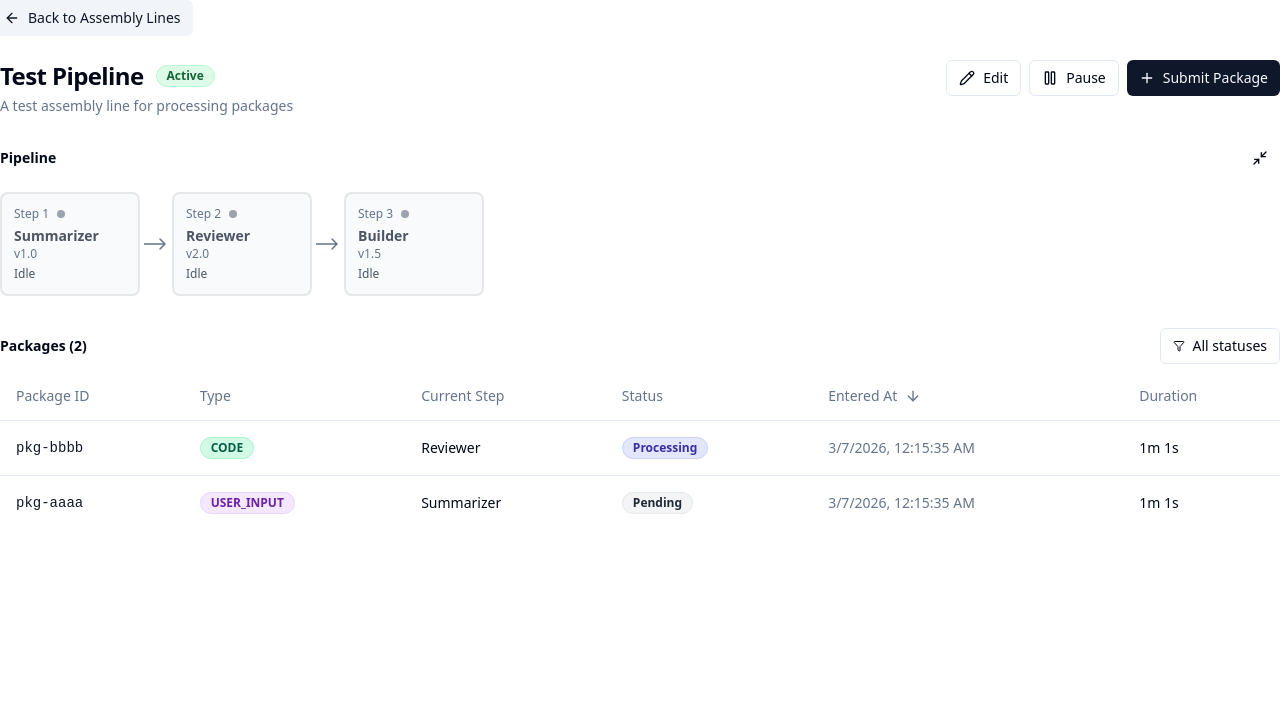
it: AssemblyLineDetailPage › Action buttons › opens submit dialog on Submit Package click
Click the button "Submit Package". click: (1203, 78)
box: [1127,60,1279,96]
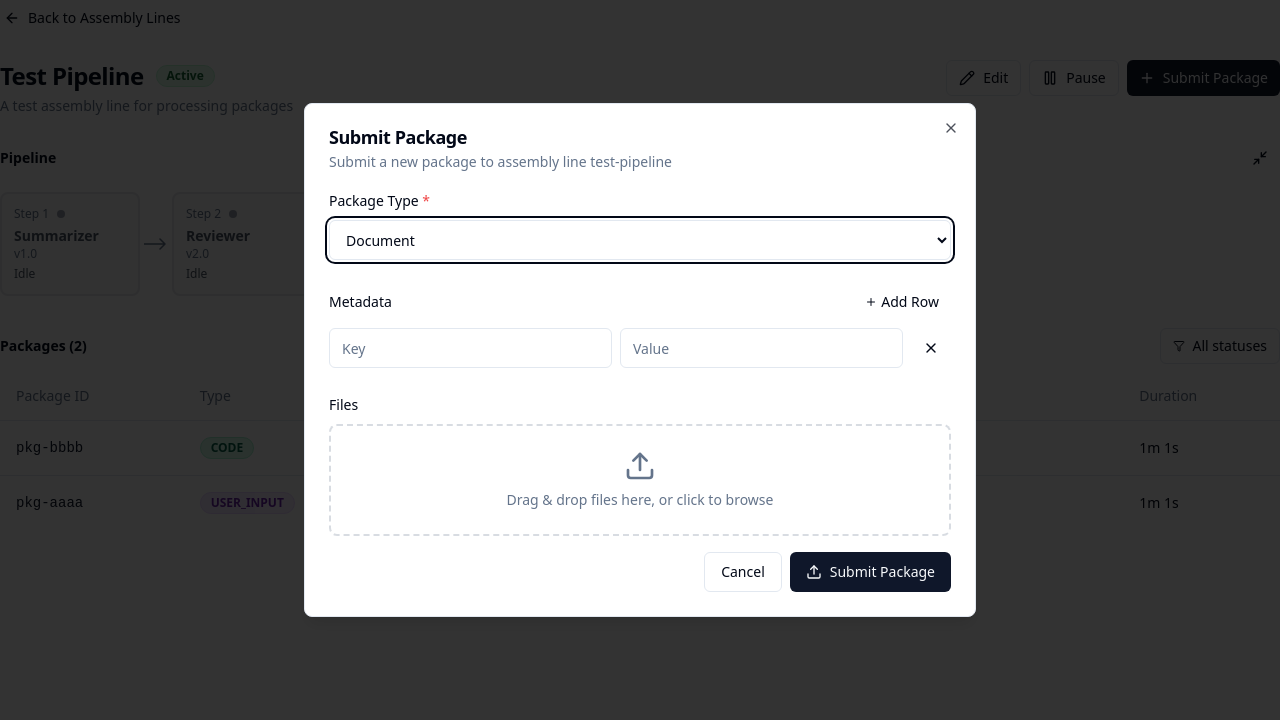
expect the heading "Submit Package" is shown: met, box [329,125,467,149]
